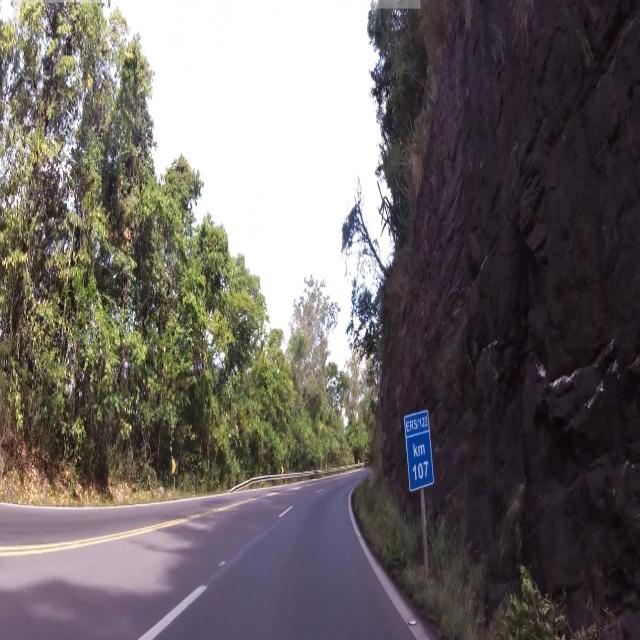RQ: (405, 413, 437, 491)
